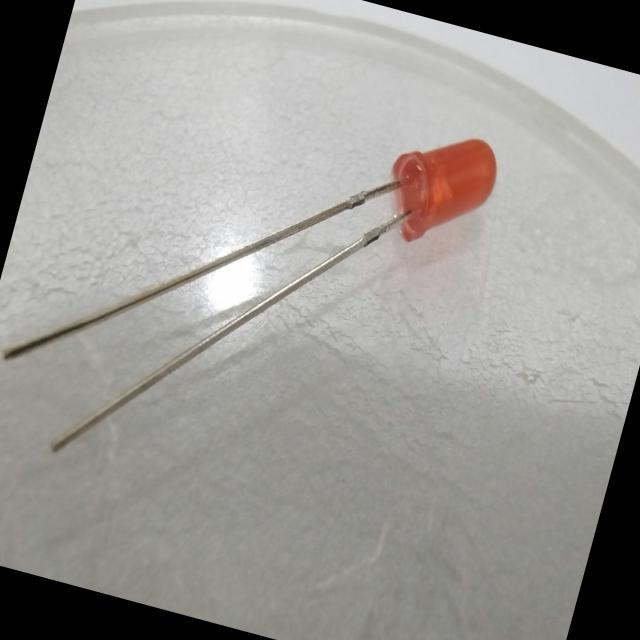red_led: (367, 110, 519, 268)
